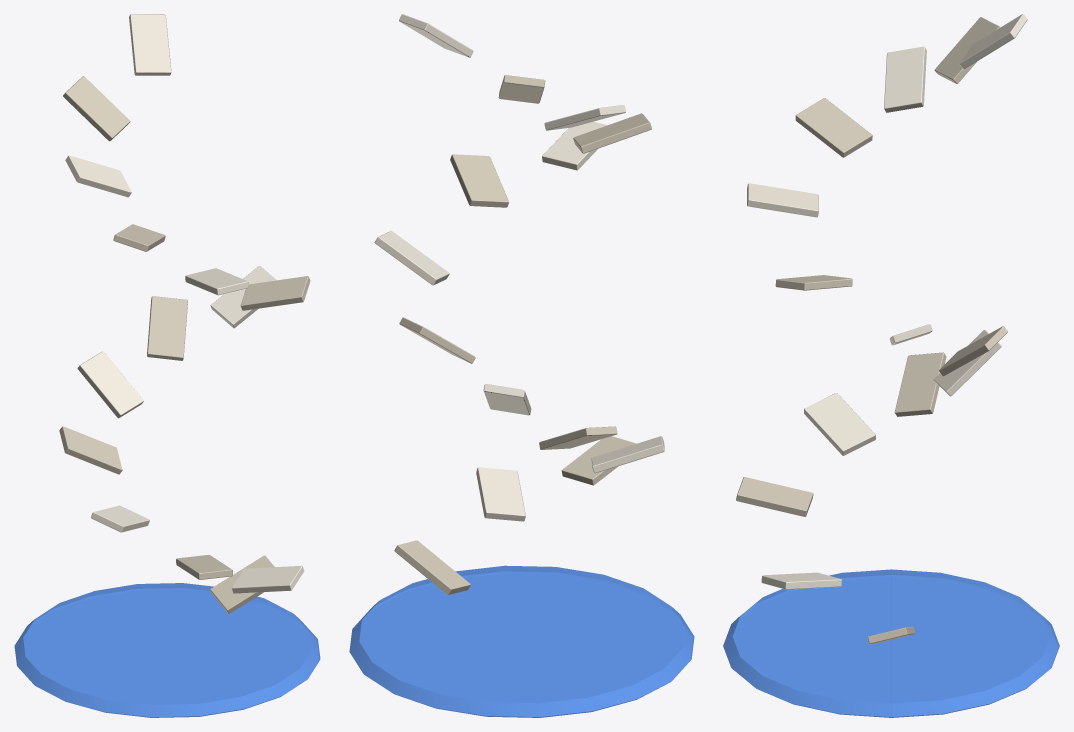
File: paper_updraft.glb
The picture shows the model from 3 angles, left to right: view 1: azimuth 30°, elevation 25°; view 2: azimuth 150°, elevation 25°; view 3: azimuth 270°, elevation 25°; orthographic projection. The views are drawn at different scales.
Parts seen in each view (by area): view 1: launch_pad, strip_13, strip_6, strip_5, strip_12, strip_8, strip_4, strip_1, strip_11, strip_7, strip_0, strip_9 (+3 smaller); view 2: launch_pad, strip_1, strip_8, strip_0, strip_7, strip_10, strip_9, strip_2, strip_3, strip_5, strip_12, strip_4 (+3 smaller); view 3: launch_pad, strip_11, strip_3, strip_10, strip_4, strip_2, strip_9, strip_12, strip_13, strip_1, strip_5, strip_6 (+1 smaller).
Part boxes in pixels (x1,y1,x2,y2): launch_pad: [14, 583, 320, 717]; strip_13: [129, 14, 171, 75]; strip_6: [147, 296, 187, 360]; strip_5: [77, 351, 143, 418]; strip_12: [63, 76, 130, 141]; strip_8: [240, 276, 310, 310]; strip_4: [59, 426, 122, 474]; strip_1: [231, 566, 304, 593]; strip_11: [65, 155, 131, 197]; strip_7: [210, 266, 276, 328]; strip_0: [210, 555, 274, 613]; strip_9: [185, 268, 248, 295]; launch_pad: [349, 565, 694, 717]; strip_1: [476, 467, 525, 521]; strip_8: [450, 154, 508, 207]; strip_0: [394, 540, 470, 594]; strip_7: [374, 231, 449, 285]; strip_10: [573, 113, 651, 153]; strip_9: [542, 121, 607, 170]; strip_2: [561, 436, 636, 485]; strip_3: [591, 436, 664, 473]; strip_5: [483, 384, 531, 415]; strip_12: [498, 75, 545, 103]; strip_4: [539, 426, 617, 449]; launch_pad: [723, 569, 1059, 717]; strip_11: [884, 46, 926, 112]; strip_3: [804, 393, 875, 455]; strip_10: [795, 98, 872, 157]; strip_4: [894, 352, 946, 416]; strip_2: [736, 477, 813, 516]; strip_9: [747, 183, 818, 217]; strip_12: [934, 17, 1000, 83]; strip_13: [959, 14, 1027, 68]; strip_1: [761, 572, 841, 589]; strip_5: [933, 330, 1001, 396]; strip_6: [939, 326, 1007, 376].
Size of the model in its own units: 0.84 by 1.78 by 0.84.
